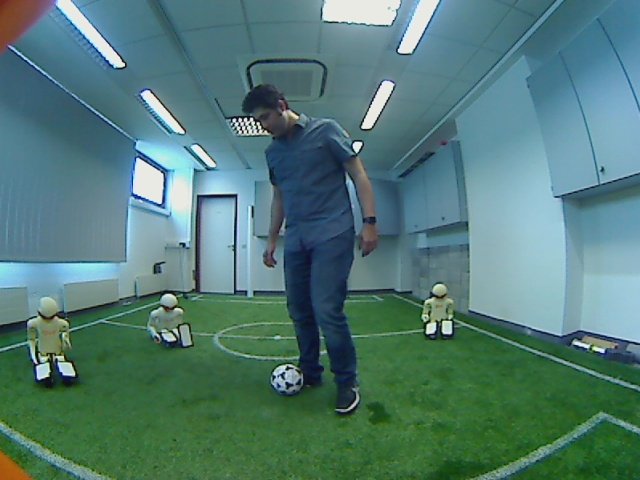ball: (267, 362, 306, 399)
robot: (22, 291, 83, 392), (145, 287, 195, 353), (418, 281, 460, 343)
